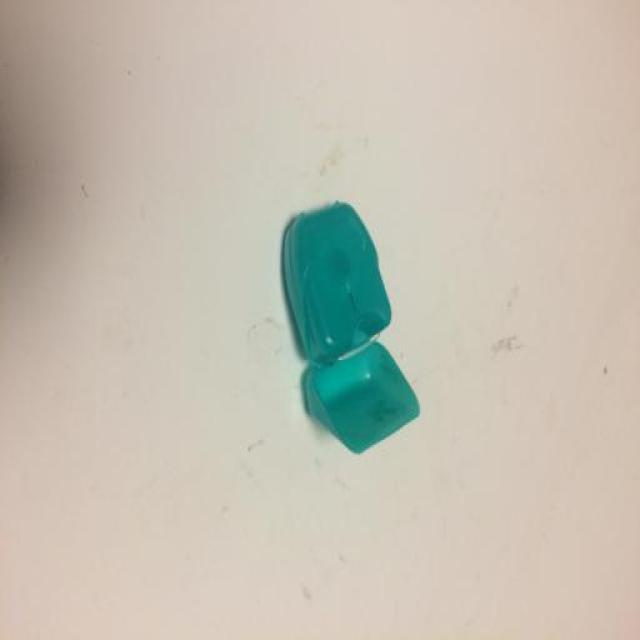Random Trash: (280, 202, 421, 453)
